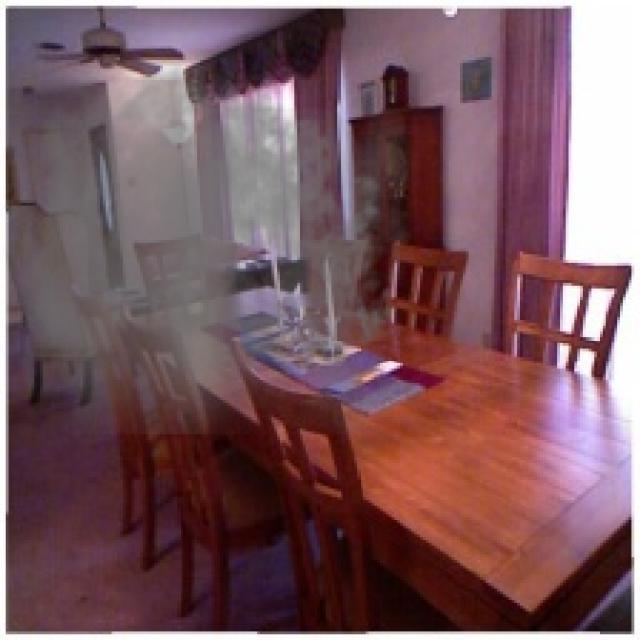smoke: (17, 43, 406, 434)
